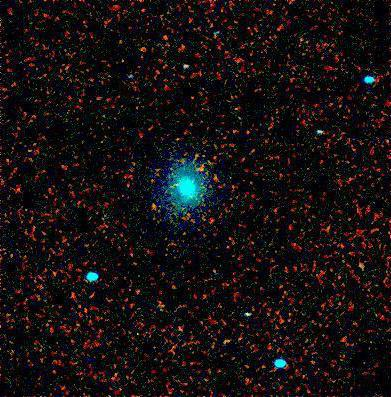star: (138, 191, 168, 221)
